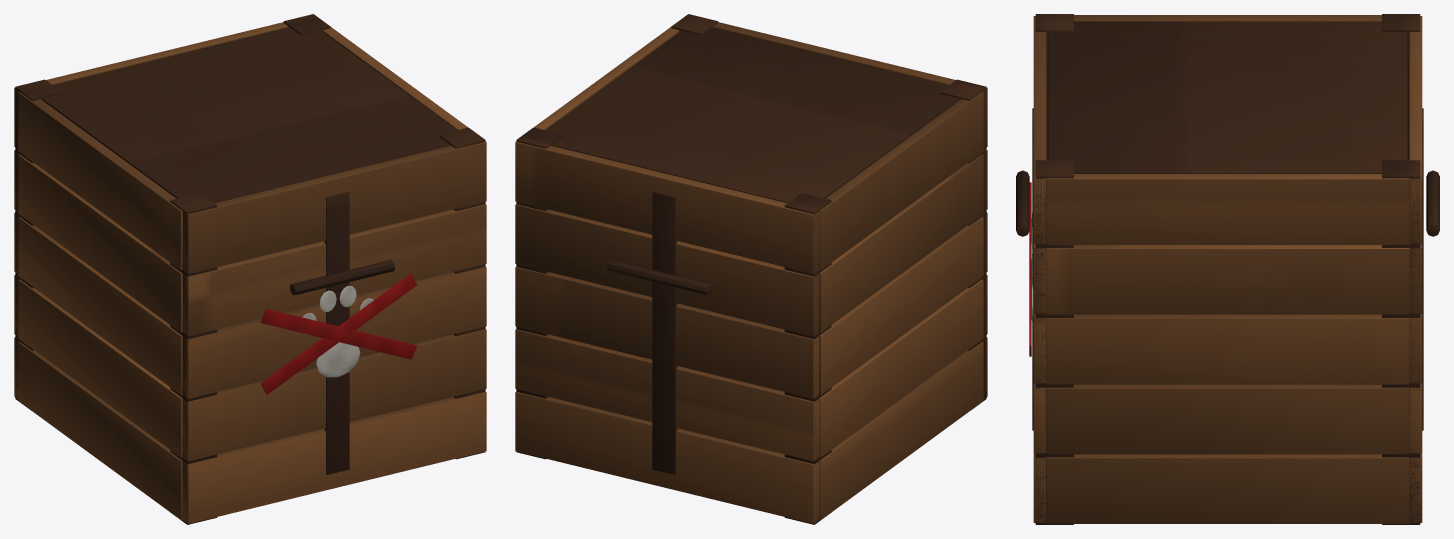
The model's file is prop_crate.glb.
3 renders of one model, left to right at view 1: azimuth 30°, elevation 25°; view 2: azimuth 150°, elevation 25°; view 3: azimuth 270°, elevation 25°, orthographic. The views are drawn at different scales.
Parts seen in each view (by area): view 1: prop_crate; view 2: prop_crate; view 3: prop_crate.
Boxes of the visible parts, x1,y1,x2,y2 form: prop_crate: (14,14,486,524); prop_crate: (515,14,987,524); prop_crate: (1016,14,1439,524).
Size of the model in its own units: 0.91 by 0.9 by 0.9918.
Materials: 5 (5 with a texture image).
